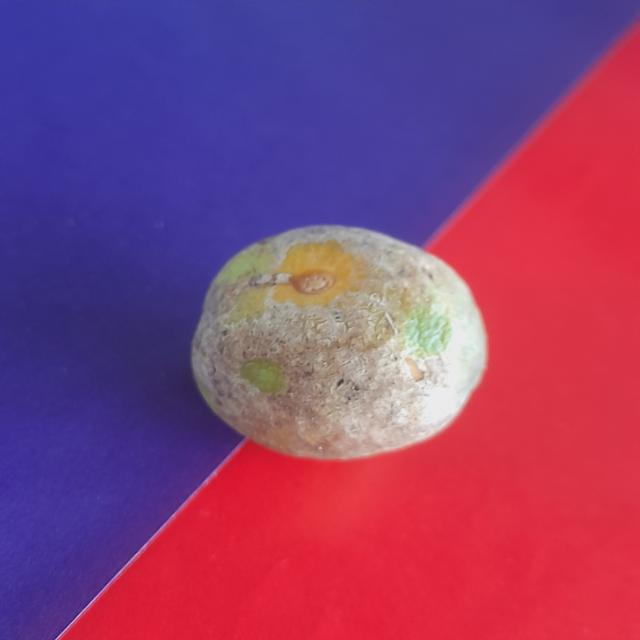thrips: (175, 221, 497, 467)
